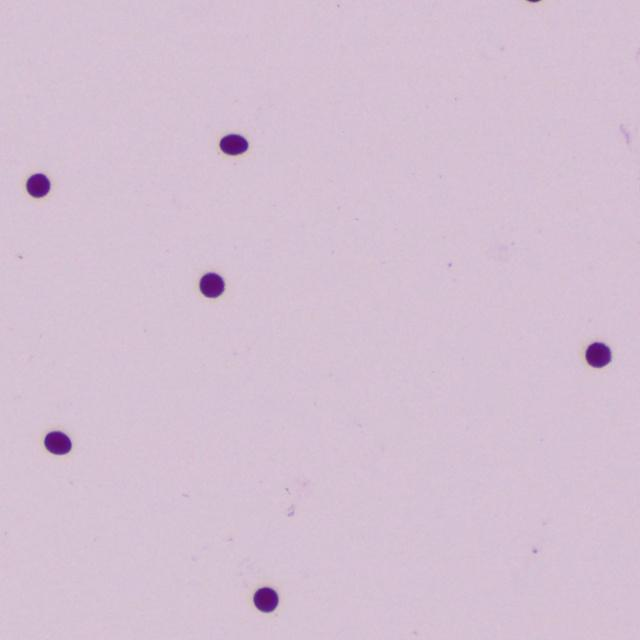viable: (253, 587, 278, 612), (44, 431, 71, 454), (586, 342, 610, 367), (200, 273, 224, 297), (220, 135, 247, 155), (26, 174, 49, 197)
